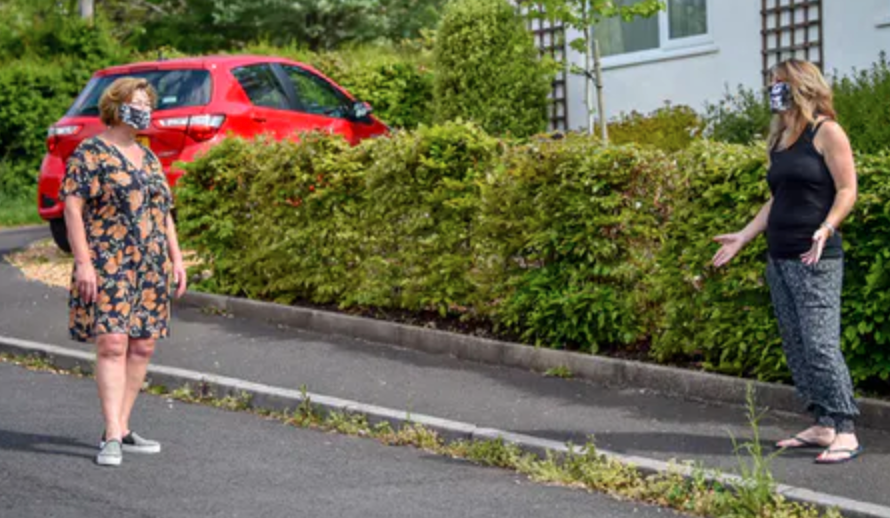Good: (58, 56, 860, 470)
